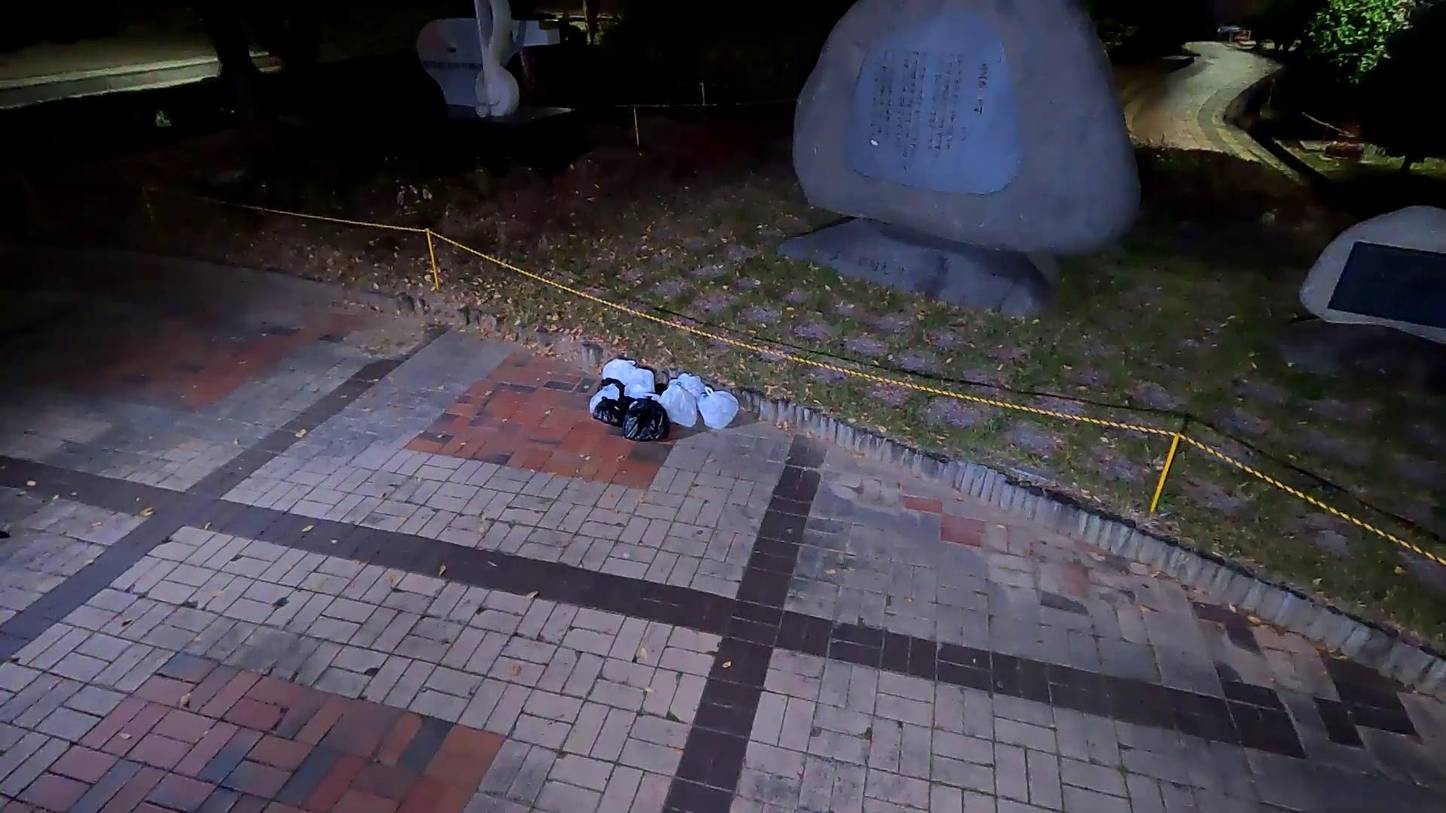trash: (597, 354, 655, 408), (617, 392, 672, 440), (695, 379, 742, 429), (658, 379, 702, 432), (664, 371, 709, 418), (586, 381, 629, 421), (593, 391, 620, 428)
